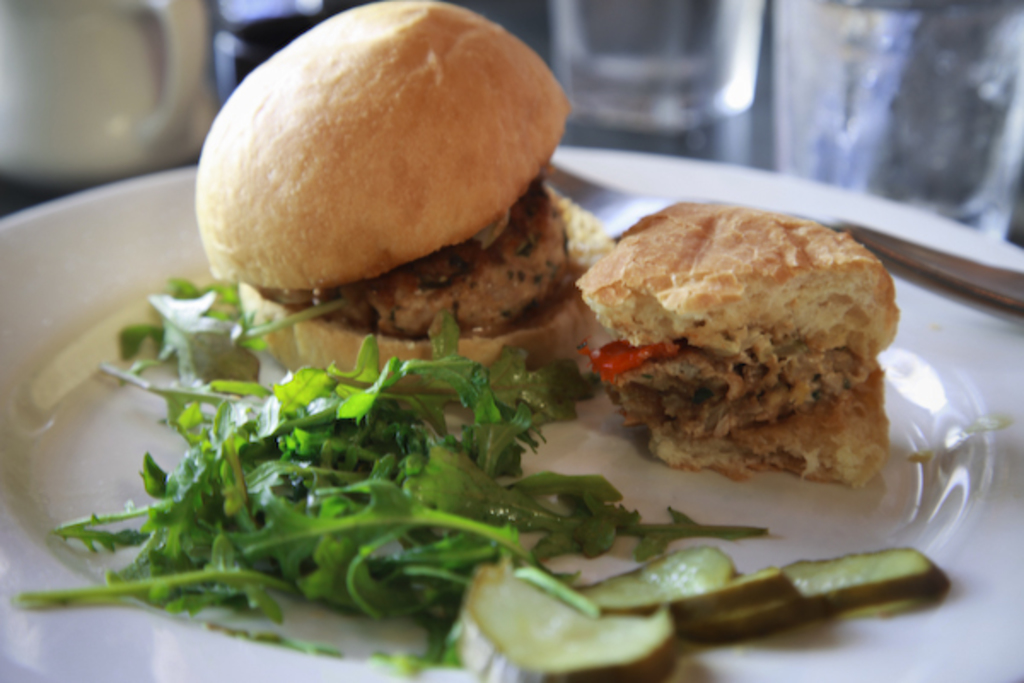Hamburger: (201, 0, 609, 384), (573, 199, 896, 491)
